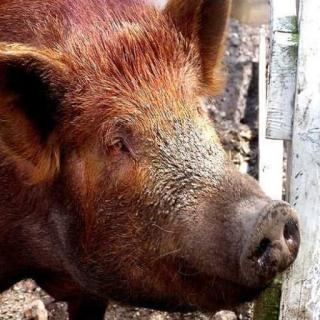Pig: (10, 0, 295, 320)
